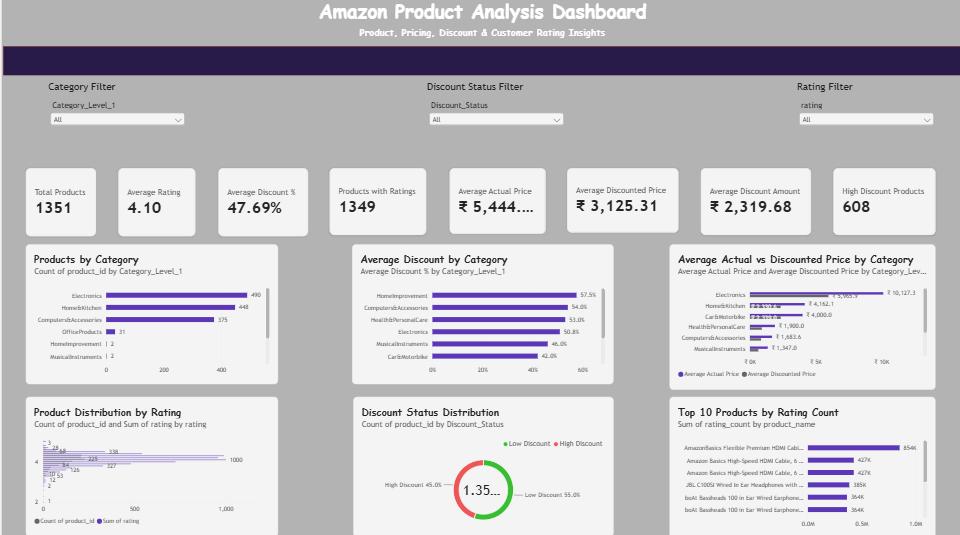

The page's visual inventory and layout, read from the dashboard file:
{"tool":"powerbi","page":{"name":"01_Amazon Overview","canvas":[1920,1080],"ordinal":0},"visuals":[{"type":"shape","title":"Amazon Product Analysis Dashboard","box":[2.3,0,1917.7,154.7],"z":0},{"type":"cardVisual","fields":{"Data":["Amazon_Raw.Total Products"]},"box":[47.8,341.2,141,136.5],"z":1000},{"type":"cardVisual","fields":{"Data":["Amazon_Raw.Average Rating"]},"box":[233.1,341.2,154.7,136.5],"z":2000},{"type":"cardVisual","fields":{"Data":["Amazon_Raw.Average Discount %"]},"box":[432.1,341.2,179.7,136.5],"z":3000},{"type":"cardVisual","fields":{"Data":["Amazon_Raw.Average Actual Price"]},"box":[893.8,341.2,192.6,132],"z":4000},{"type":"cardVisual","fields":{"Data":["Amazon_Raw.Average Discounted Price"]},"box":[1130.7,341.2,222.9,129.7],"z":5000},{"type":"cardVisual","fields":{"Data":["Amazon_Raw.Average Discount Amount"]},"box":[1398,341.2,220.7,134.2],"z":6000},{"type":"cardVisual","fields":{"Data":["Amazon_Raw.Products with Ratings"]},"box":[656.2,341.2,193.4,134.2],"z":7000},{"type":"cardVisual","fields":{"Data":["Amazon_Raw.High Discount Products"]},"box":[1662.9,341.2,204.7,134.2],"z":8000},{"type":"clusteredBarChart","title":"Products by Category","fields":{"Category":["Amazon_Raw.Category_Level_1"],"Y":["Count(Amazon_Raw.product_id)"]},"box":[47.8,493.6,505,279.8],"z":9000},{"type":"clusteredBarChart","title":"Average Discount by Category","fields":{"Category":["Amazon_Raw.Category_Level_1"],"Y":["Amazon_Raw.Average Discount %"]},"box":[700.7,493.6,523.2,279.8],"z":10000},{"type":"clusteredBarChart","title":"Average Actual vs Discounted Price by Category","fields":{"Category":["Amazon_Raw.Category_Level_1"],"Y":["Amazon_Raw.Average Actual Price","Amazon_Raw.Average Discounted Price"]},"box":[1335.4,493.6,532.3,291.2],"z":11000},{"type":"clusteredBarChart","title":"Product Distribution by Rating","fields":{"Category":["Amazon_Raw.rating"],"Y":["Count(Amazon_Raw.product_id)","Sum(Amazon_Raw.rating)"]},"box":[47.8,798.5,505,279.8],"z":12000},{"type":"donutChart","title":"Discount Status Distribution","fields":{"Category":["Amazon_Raw.Discount_Status"],"Y":["Count(Amazon_Raw.product_id)"]},"box":[702.9,798.5,520.9,279.8],"z":13000},{"type":"clusteredBarChart","title":"Top 10 Products by Rating Count","fields":{"Category":["Amazon_Raw.product_name"],"Y":["Sum(Amazon_Raw.rating_count)"]},"box":[1335.4,798.5,532.3,282.1],"z":14000},{"type":"slicer","title":"Category Filter","fields":{"Values":["Amazon_Raw.Category_Level_1"]},"box":[93.5,165,277.8,261.3],"z":15000},{"type":"slicer","title":"Discount Status Filter","fields":{"Values":["Amazon_Raw.Discount_Status"]},"box":[850,165,278,291],"z":16000},{"type":"slicer","title":"Rating Filter","fields":{"Values":["Amazon_Raw.rating"]},"box":[1589.9,165,278.1,290.9],"z":17000}]}

Visuals, with their boxes in screenshot pixels (x1, y1, x2, y2), scaled from the page's 1920x1080 canvas onto the 960x535 screenshot:
"Amazon Product Analysis Dashboard" shape: <bbox>1, 0, 959, 77</bbox>
cardVisual - Amazon_Raw.Total Products: <bbox>24, 169, 94, 237</bbox>
cardVisual - Amazon_Raw.Average Rating: <bbox>117, 169, 194, 237</bbox>
cardVisual - Amazon_Raw.Average Discount %: <bbox>216, 169, 306, 237</bbox>
cardVisual - Amazon_Raw.Average Actual Price: <bbox>447, 169, 543, 234</bbox>
cardVisual - Amazon_Raw.Average Discounted Price: <bbox>565, 169, 677, 233</bbox>
cardVisual - Amazon_Raw.Average Discount Amount: <bbox>699, 169, 809, 235</bbox>
cardVisual - Amazon_Raw.Products with Ratings: <bbox>328, 169, 425, 235</bbox>
cardVisual - Amazon_Raw.High Discount Products: <bbox>831, 169, 934, 235</bbox>
"Products by Category" clusteredBarChart: <bbox>24, 245, 276, 383</bbox>
"Average Discount by Category" clusteredBarChart: <bbox>350, 245, 612, 383</bbox>
"Average Actual vs Discounted Price by Category" clusteredBarChart: <bbox>668, 245, 934, 389</bbox>
"Product Distribution by Rating" clusteredBarChart: <bbox>24, 396, 276, 534</bbox>
"Discount Status Distribution" donutChart: <bbox>351, 396, 612, 534</bbox>
"Top 10 Products by Rating Count" clusteredBarChart: <bbox>668, 396, 934, 534</bbox>
"Category Filter" slicer: <bbox>47, 82, 186, 211</bbox>
"Discount Status Filter" slicer: <bbox>425, 82, 564, 226</bbox>
"Rating Filter" slicer: <bbox>795, 82, 934, 226</bbox>
